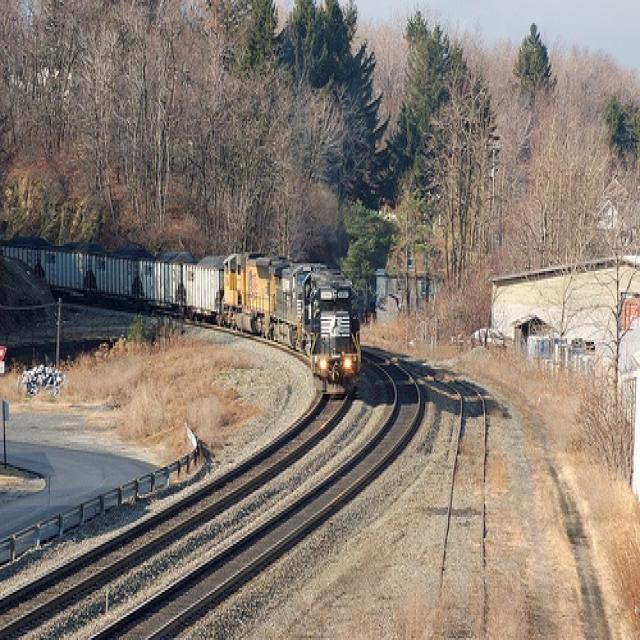train: (1, 236, 362, 398)
